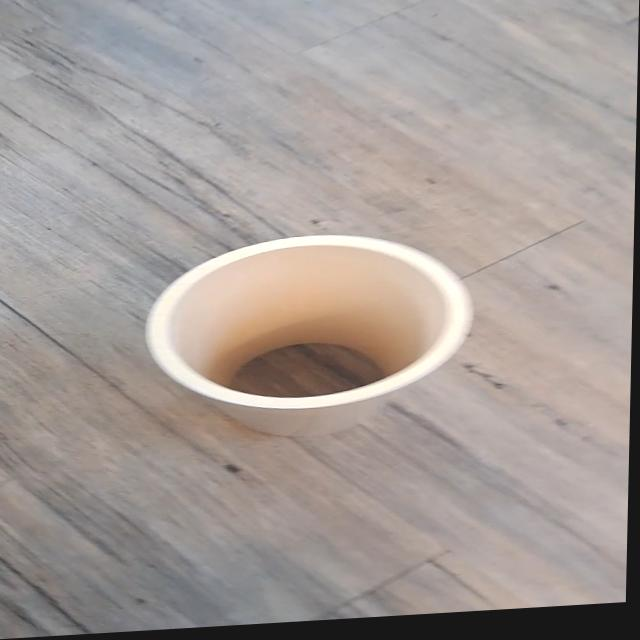CORAL: (106, 198, 513, 456)
